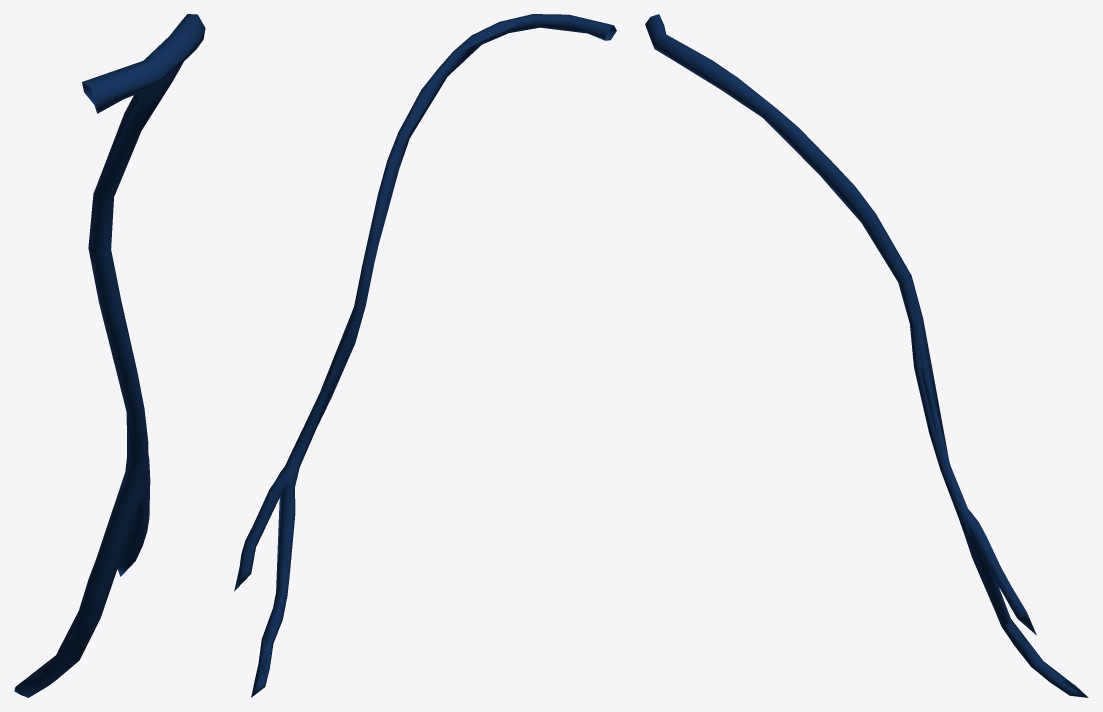
Rendered from R vena caudalis femoris.fbx.
3 views of the same model, side by side, from view 1: azimuth 30°, elevation 25°; view 2: azimuth 150°, elevation 25°; view 3: azimuth 270°, elevation 25° (orthographic). The views are drawn at different scales.
Parts seen in each view (by area): view 1: R vena caudalis femoris, R vena caudalis femoris low; view 2: R vena caudalis femoris low, R vena caudalis femoris; view 3: R vena caudalis femoris, R vena caudalis femoris low.
Part boxes in pixels (x1=…): R vena caudalis femoris: x1=14, y1=14, x2=205, y2=697; R vena caudalis femoris low: x1=17, y1=16, x2=201, y2=685; R vena caudalis femoris low: x1=234, y1=14, x2=616, y2=696; R vena caudalis femoris: x1=234, y1=14, x2=616, y2=697; R vena caudalis femoris: x1=645, y1=17, x2=1088, y2=697; R vena caudalis femoris low: x1=650, y1=14, x2=1087, y2=697.
Size of the model in its own units: 4.38 by 11.67 by 7.77.
